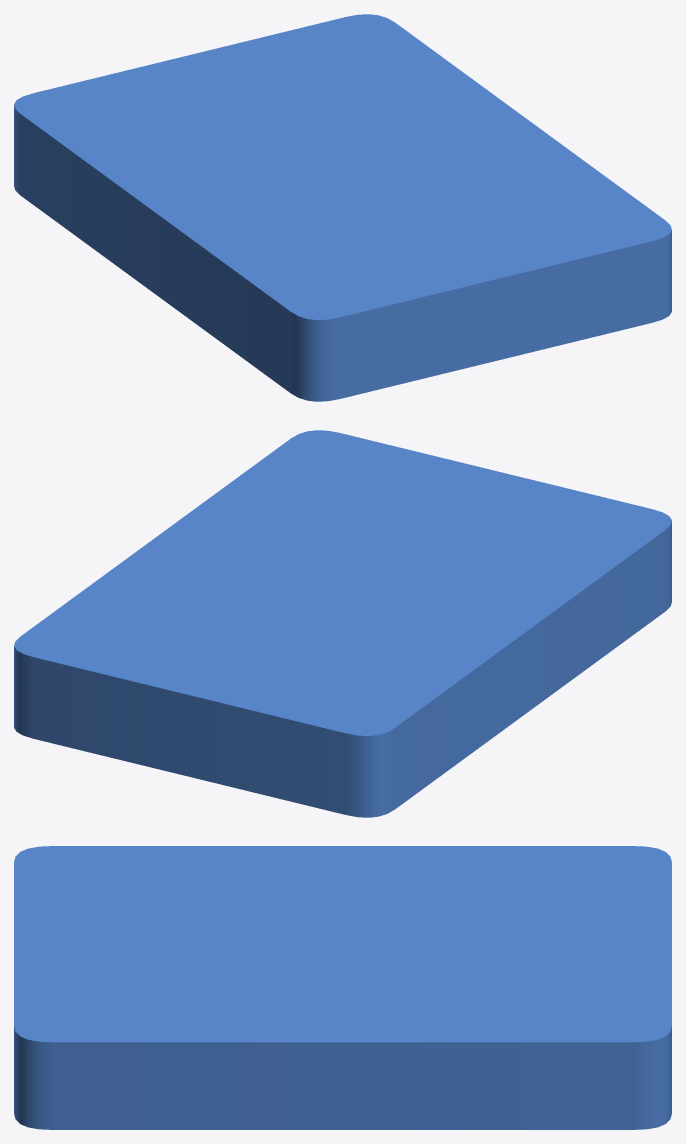
The model's file is deck.obj.
The picture shows the model from 3 angles, top to bottom: view 1: azimuth 30°, elevation 25°; view 2: azimuth 150°, elevation 25°; view 3: azimuth 270°, elevation 25°; orthographic projection. The views are drawn at different scales.
Visible parts, largest first — view 1: Box001; view 2: Box001; view 3: Box001.
Boxes of the visible parts, bbox=[...] form: Box001: bbox=[14, 14, 671, 401]; Box001: bbox=[14, 430, 671, 817]; Box001: bbox=[14, 846, 671, 1129].
Size of the model in its own units: 0.12 by 0.025 by 0.17.
